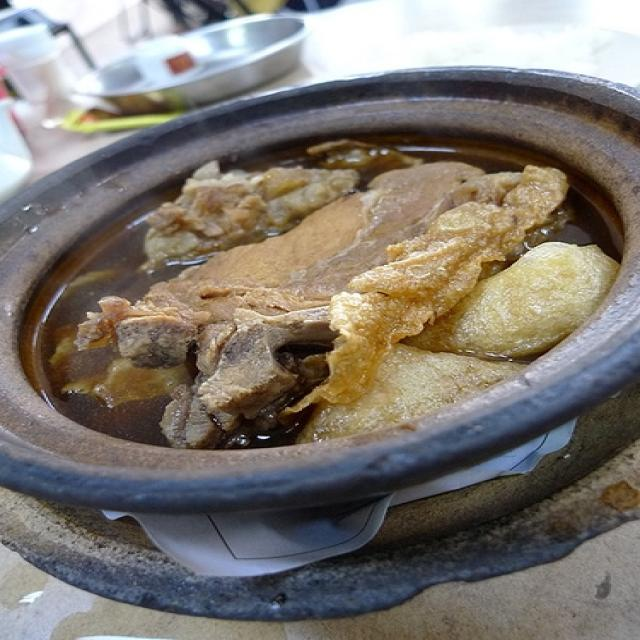汤锅炖物: (32, 64, 608, 554)
